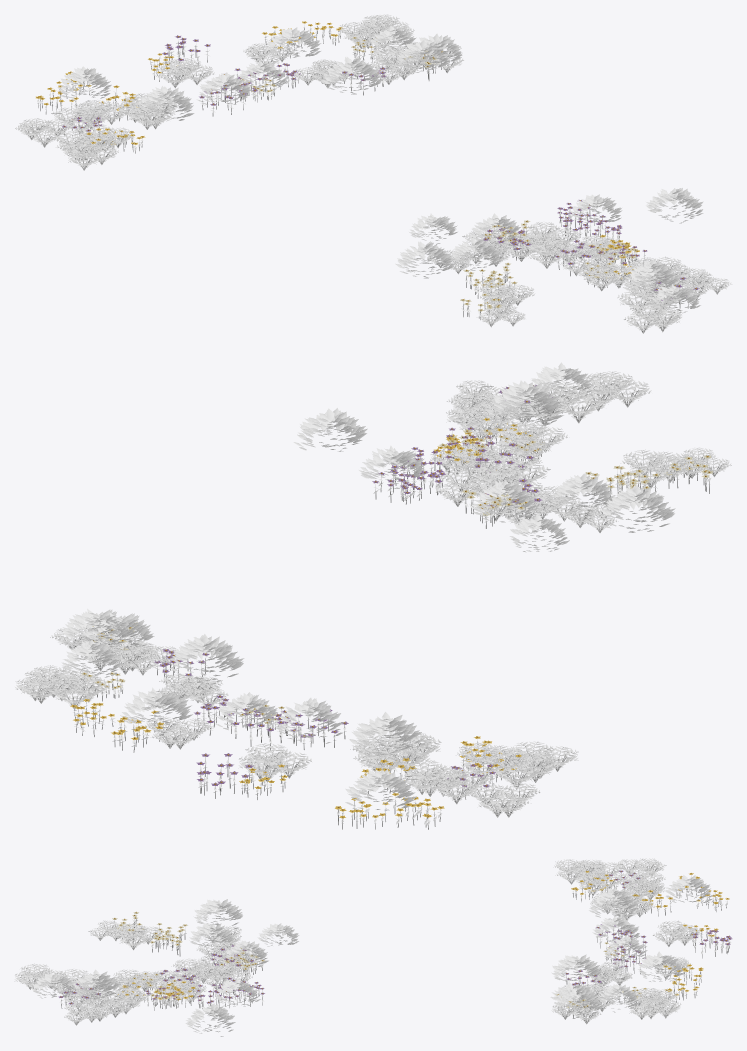
The model's file is SM_NW_Nature_2_3_Flora.fbx.
3 renders of one model, top to bottom at view 1: azimuth 30°, elevation 25°; view 2: azimuth 150°, elevation 25°; view 3: azimuth 270°, elevation 25°, orthographic. The views are drawn at different scales.
Parts seen in each view (by area): view 1: SM_NW_Nature_2_3_Flora; view 2: SM_NW_Nature_2_3_Flora; view 3: SM_NW_Nature_2_3_Flora.
Boxes of the visible parts, x1,y1,x2,y2 form: SM_NW_Nature_2_3_Flora: [15, 14, 731, 333]; SM_NW_Nature_2_3_Flora: [15, 362, 731, 829]; SM_NW_Nature_2_3_Flora: [14, 858, 732, 1036].
Bounding box in the file's own units: 1556 × 2590 × 153.
